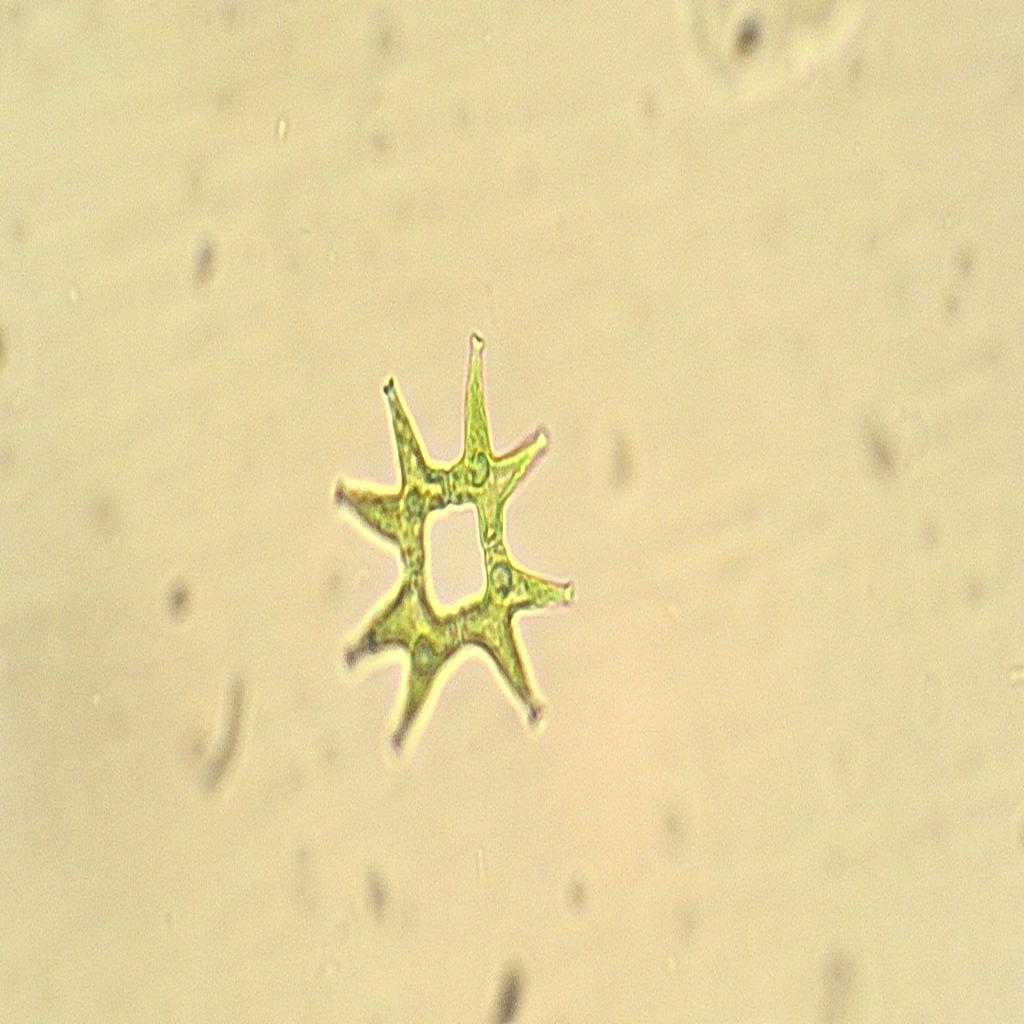Pediastrum_75O: (294, 317, 604, 779)
